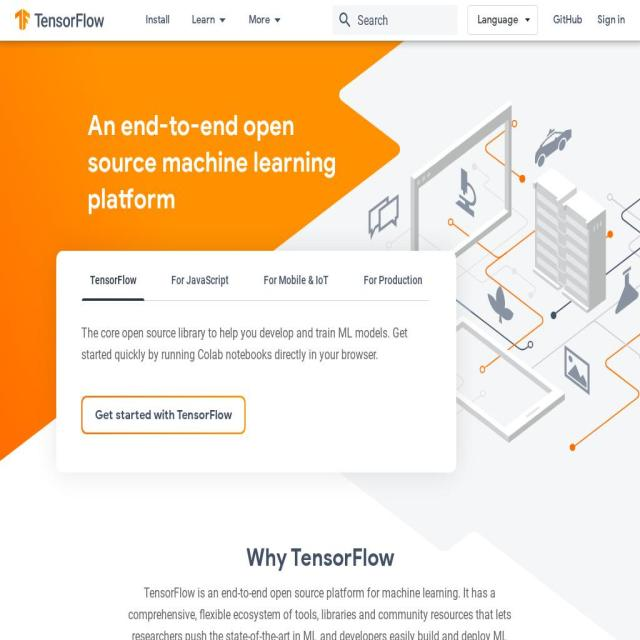button: (15, 7, 104, 33), (468, 5, 538, 35), (548, 5, 588, 35), (592, 5, 630, 35)
field: (332, 5, 458, 35)
heading: (246, 541, 394, 574)
image: (15, 7, 104, 33)
link: (249, 0, 285, 40), (146, 0, 170, 40), (192, 0, 215, 40)
text: (126, 582, 514, 640)
